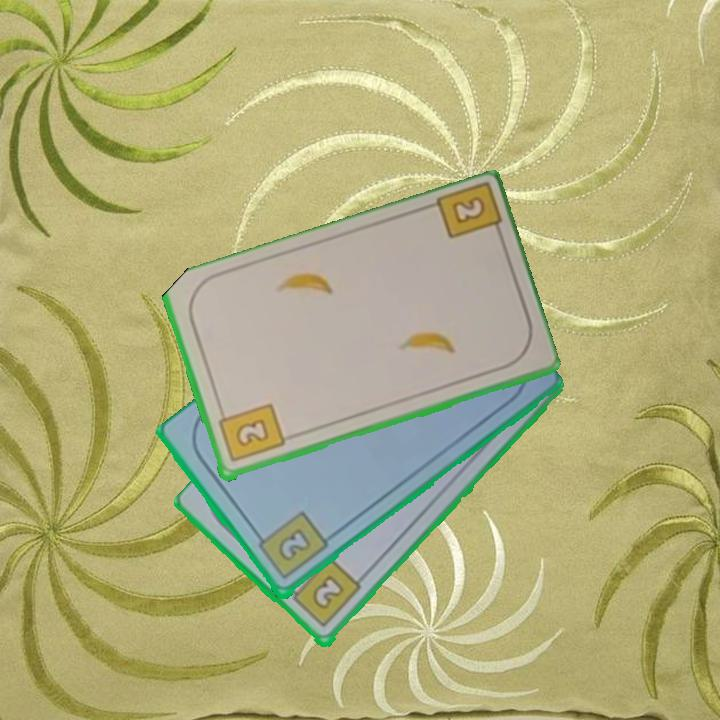2b: (284, 555, 364, 631), (251, 508, 331, 584), (430, 182, 506, 245), (215, 400, 287, 466)
